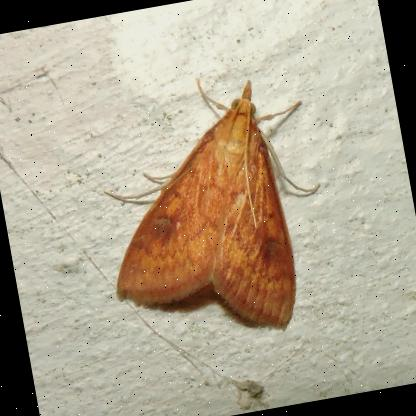Asian Corn Borer Moth: (78, 57, 346, 358)
